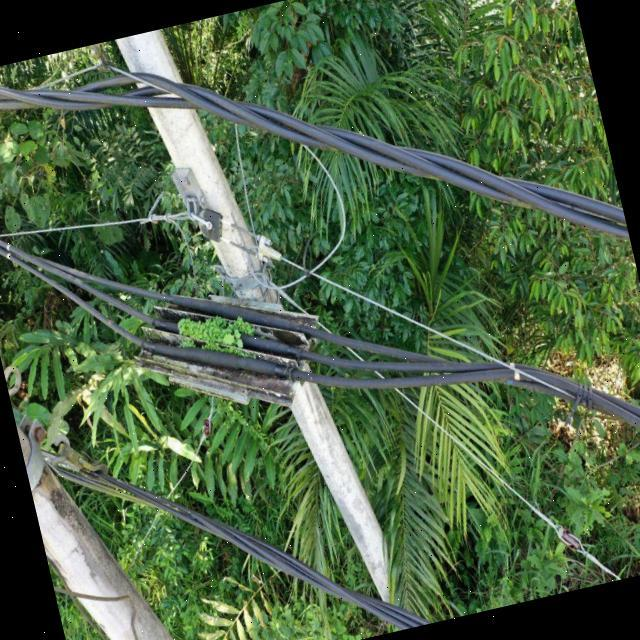critical vegetation: (165, 288, 272, 388)
